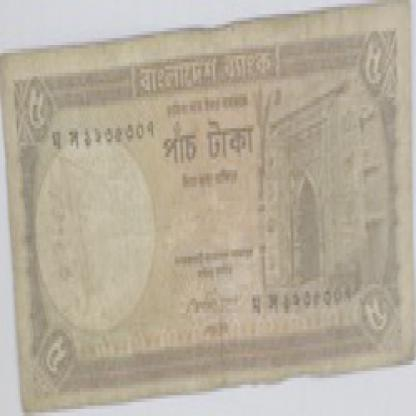Five Taka: (160, 114, 258, 174), (361, 281, 393, 343), (19, 76, 48, 142), (40, 333, 75, 385), (362, 35, 388, 97)
